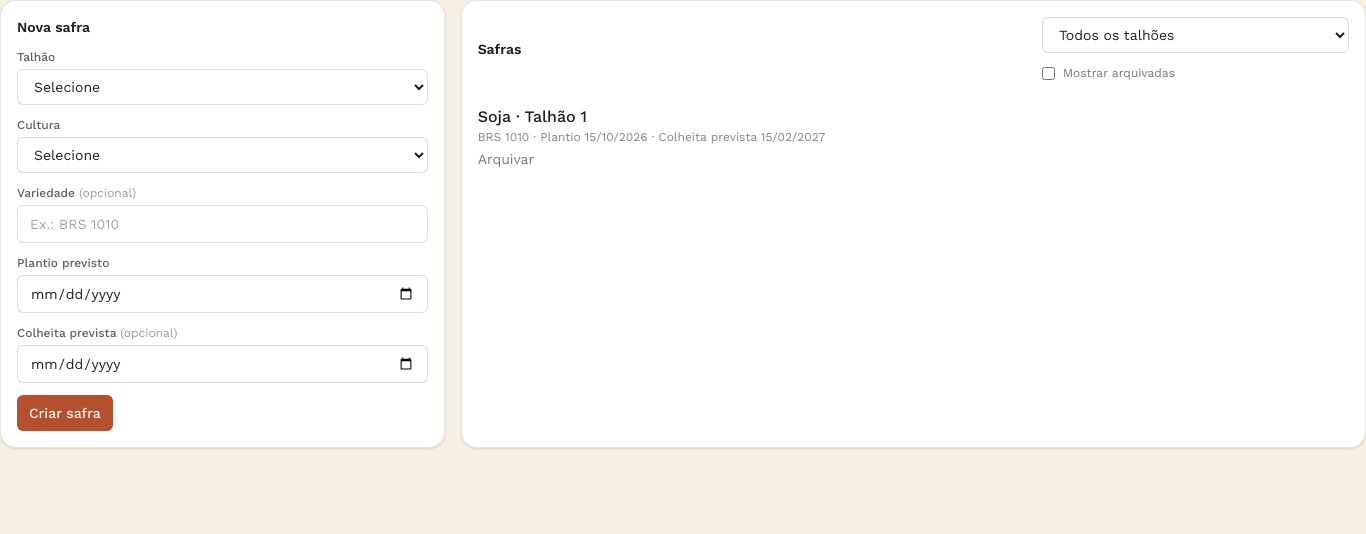
Test case: CropCyclesTab › não envia quando a colheita prevista é antes do plantio
Select "Talhão 1" in the dropdown labelled "Talhão" at (222, 87), box [17,69,428,105]
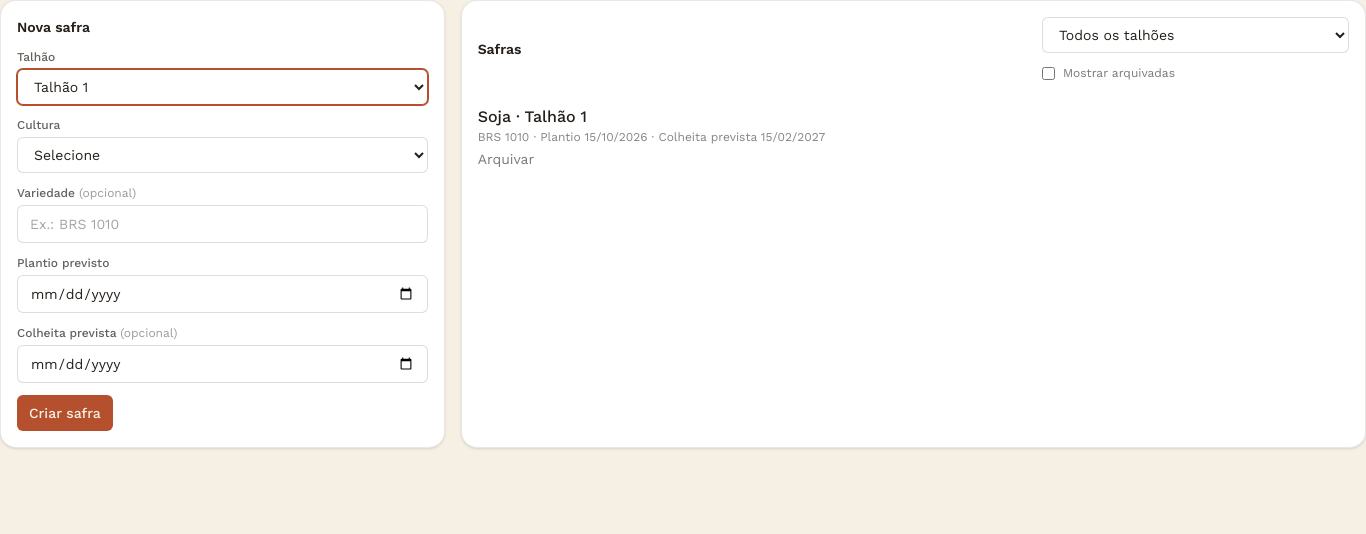
Select "Soja" in the dropdown labelled "Cultura" at (222, 155), box [17,137,428,173]
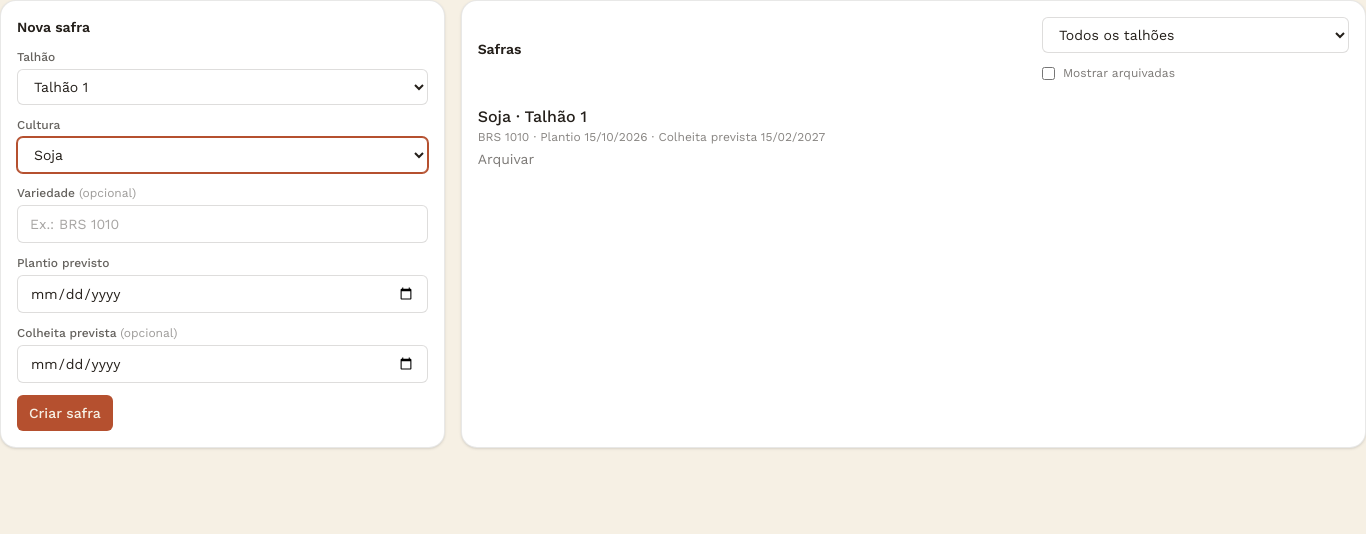
Type "2026-11-01" into the date field labelled "Plantio previsto" at (222, 294), box [17,275,428,313]
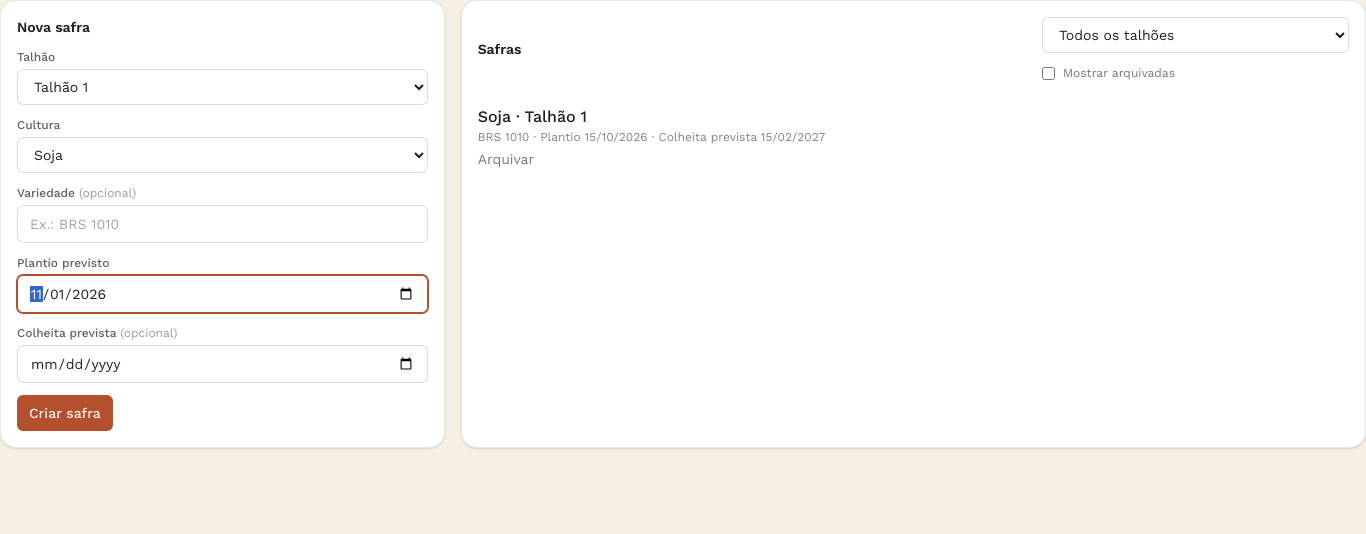
Type "2026-10-01" into the date field labelled "Colheita prevista (opcional)" at (222, 364), box [17,345,428,383]
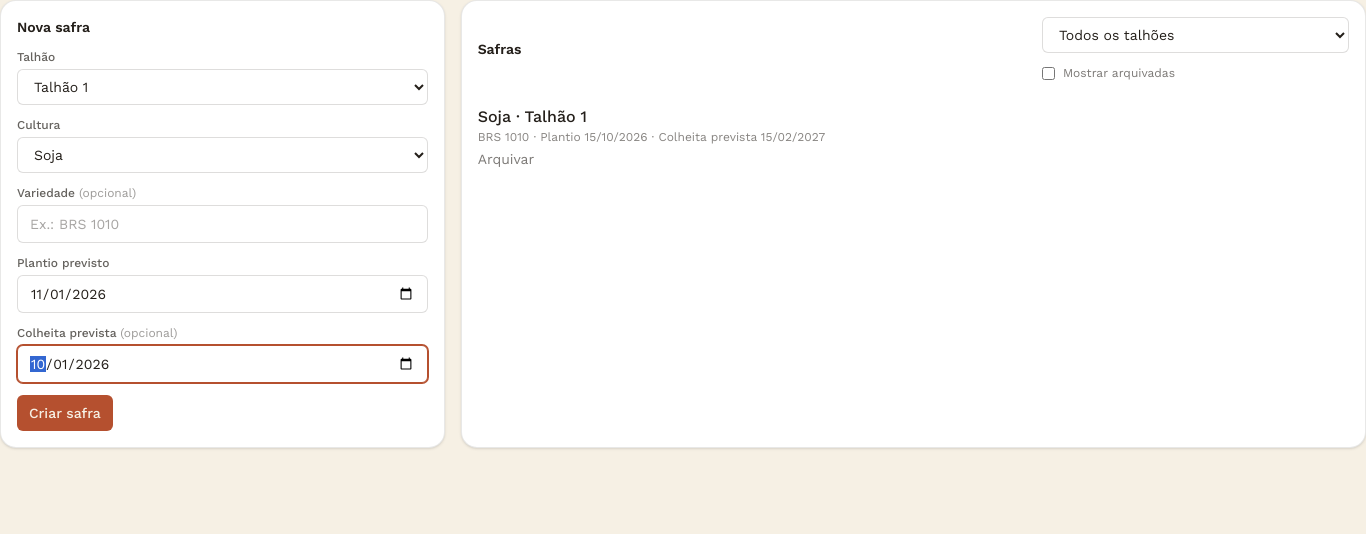
Click the button "Criar safra" at (65, 413), box [17,395,113,431]
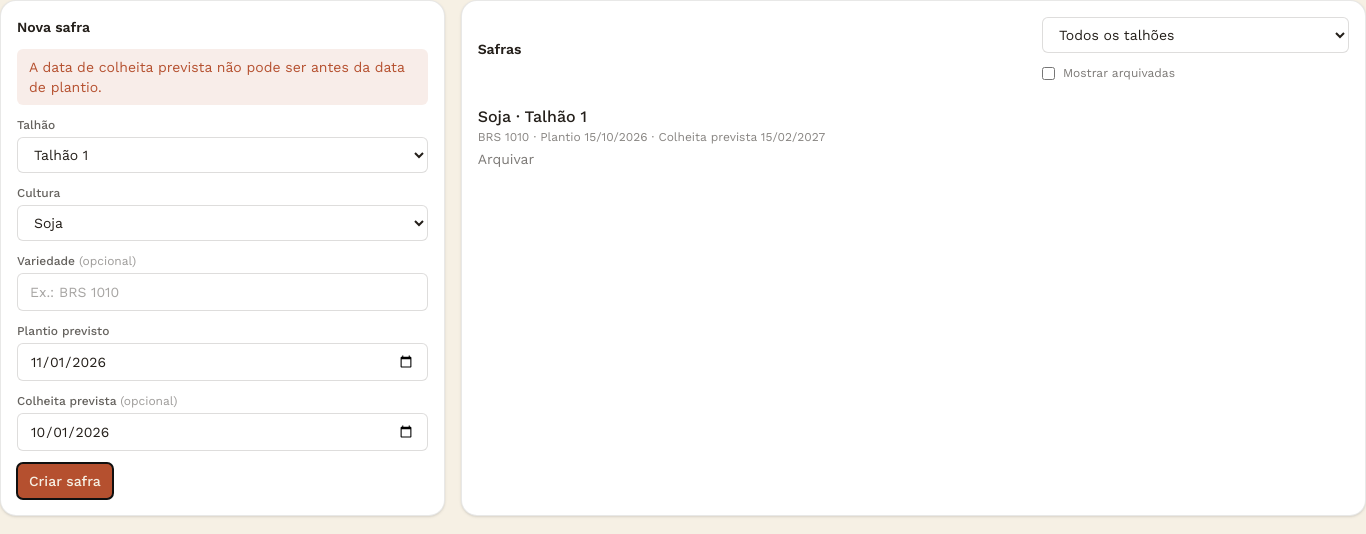
expect the text "A data de colheita prevista não pode ser antes da data de plantio." is shown: met, box [17,49,428,105]
